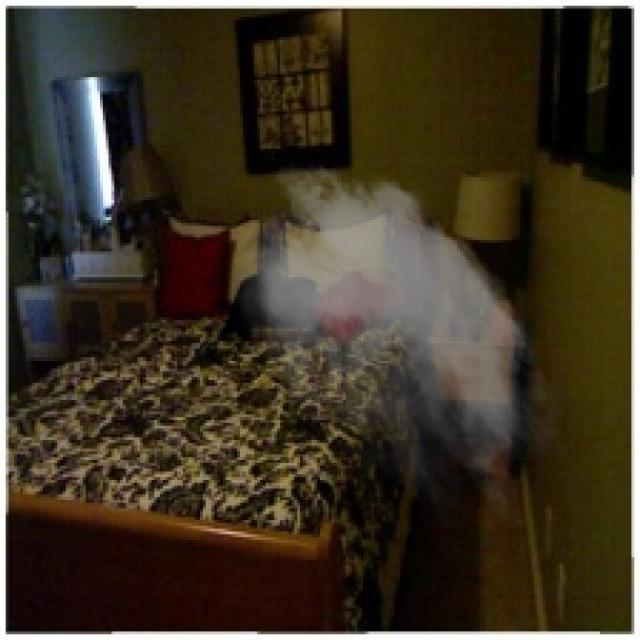Smoke: (220, 152, 569, 528)
